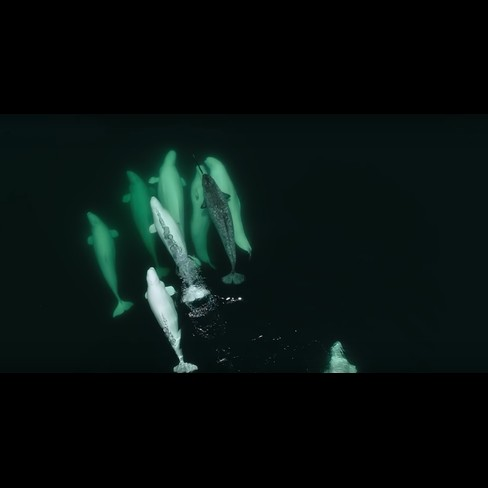beluga: (144, 192, 212, 310), (140, 264, 204, 375), (204, 150, 259, 260), (85, 207, 137, 322), (122, 164, 171, 283), (198, 168, 245, 288), (154, 141, 189, 225), (322, 337, 359, 373)
